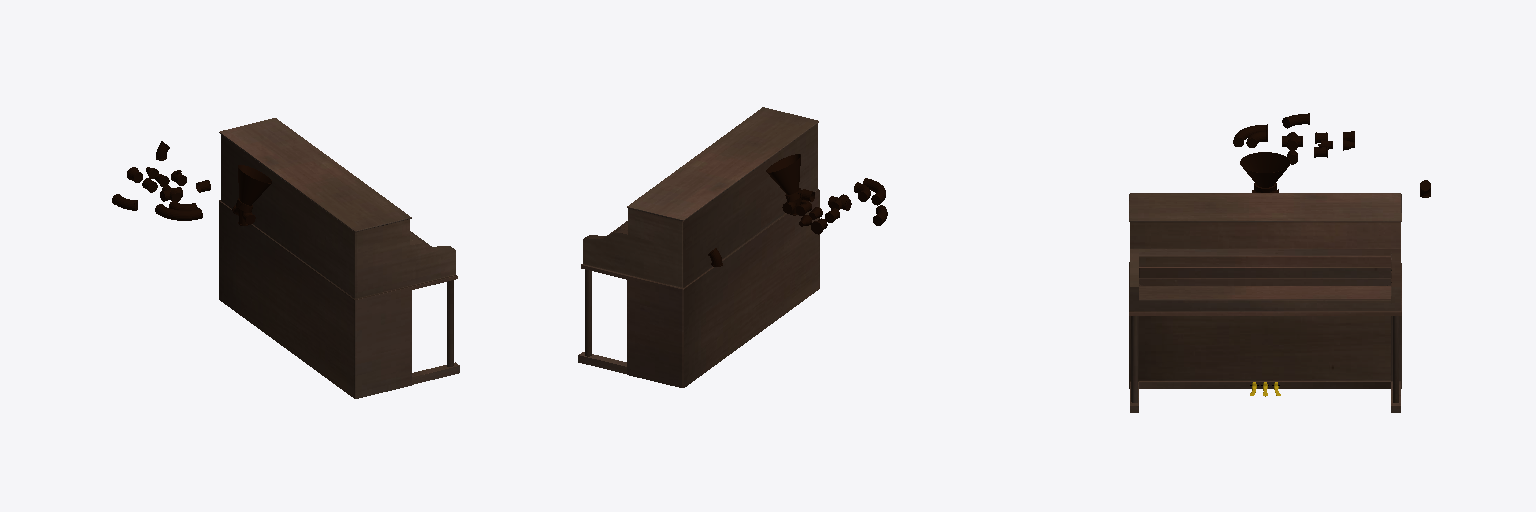
3 views of the same model, side by side, from view 1: azimuth 30°, elevation 25°; view 2: azimuth 150°, elevation 25°; view 3: azimuth 270°, elevation 25° (orthographic).
Visible parts, largest first — view 1: PianoBody, Volvic_32mm_Trichter; view 2: PianoBody, Volvic_32mm_Trichter; view 3: PianoBody, Volvic_32mm_Trichter.
Part boxes in pixels (bbox=[...]): PianoBody: bbox=[219, 118, 459, 398]; Volvic_32mm_Trichter: bbox=[236, 165, 271, 212]; PianoBody: bbox=[578, 107, 819, 387]; Volvic_32mm_Trichter: bbox=[766, 154, 801, 202]; PianoBody: bbox=[1129, 193, 1401, 412]; Volvic_32mm_Trichter: bbox=[1240, 152, 1290, 192].
Bounding box in the file's own units: 1.42 × 0.9852 × 1.44.
6 materials, 1 textured.